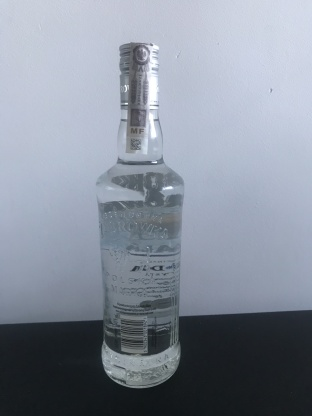nakretka: (116, 39, 163, 112)
